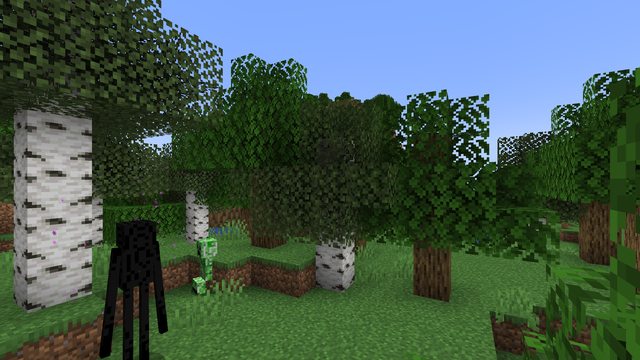creepers: (192, 235, 219, 294)
endermens: (110, 214, 161, 359)
